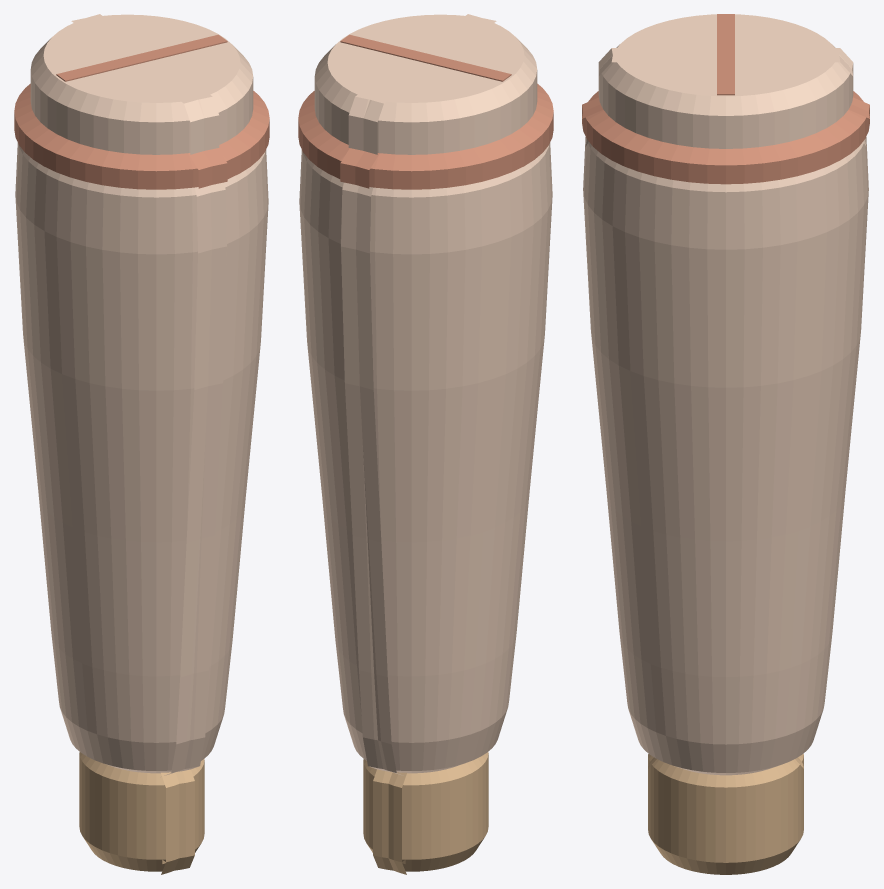
File: tube-cut.glb
3 renders of one model, left to right at view 1: azimuth 30°, elevation 25°; view 2: azimuth 150°, elevation 25°; view 3: azimuth 270°, elevation 25°, orthographic.
Visible parts, largest first — view 1: tube_Cosmetic Squeeze Tube_e3b036_right, tube_Cosmetic Squeeze Tube_e3b036_left, tube_Cosmetic Squeeze Tube_0a36c3_right, tube_Cosmetic Squeeze Tube_0a36c3_left, tube_Cosmetic Squeeze Tube_2d8c01_right, tube_Cosmetic Squeeze Tube_056f02_right, tube_Cosmetic Squeeze Tube_056f02_left, tube_Cosmetic Squeeze Tube_2d8c01_left, tube_Cosmetic Squeeze Tube_0d0d5a_left, tube_Cosmetic Squeeze Tube_0d0d5a_right; view 2: tube_Cosmetic Squeeze Tube_e3b036_right, tube_Cosmetic Squeeze Tube_e3b036_left, tube_Cosmetic Squeeze Tube_0a36c3_right, tube_Cosmetic Squeeze Tube_0a36c3_left, tube_Cosmetic Squeeze Tube_2d8c01_right, tube_Cosmetic Squeeze Tube_056f02_right, tube_Cosmetic Squeeze Tube_056f02_left, tube_Cosmetic Squeeze Tube_2d8c01_left, tube_Cosmetic Squeeze Tube_0d0d5a_left, tube_Cosmetic Squeeze Tube_0d0d5a_right; view 3: tube_Cosmetic Squeeze Tube_e3b036_left, tube_Cosmetic Squeeze Tube_0a36c3_left, tube_Cosmetic Squeeze Tube_2d8c01_left, tube_Cosmetic Squeeze Tube_056f02_left, tube_Cosmetic Squeeze Tube_0a36c3_right, tube_Cosmetic Squeeze Tube_0d0d5a_left, tube_Cosmetic Squeeze Tube_0d0d5a_right.
Boxes of the visible parts, x1,y1,x2,y2 form: tube_Cosmetic Squeeze Tube_e3b036_right: (15,142,226,773); tube_Cosmetic Squeeze Tube_e3b036_left: (164,150,268,775); tube_Cosmetic Squeeze Tube_0a36c3_right: (30,14,219,154); tube_Cosmetic Squeeze Tube_0a36c3_left: (71,14,253,154); tube_Cosmetic Squeeze Tube_2d8c01_right: (79,752,194,871); tube_Cosmetic Squeeze Tube_056f02_right: (14,83,227,189); tube_Cosmetic Squeeze Tube_056f02_left: (188,91,269,188); tube_Cosmetic Squeeze Tube_2d8c01_left: (161,759,204,874); tube_Cosmetic Squeeze Tube_0d0d5a_left: (123,34,227,65); tube_Cosmetic Squeeze Tube_0d0d5a_right: (56,51,160,81); tube_Cosmetic Squeeze Tube_e3b036_right: (341,142,552,773); tube_Cosmetic Squeeze Tube_e3b036_left: (299,150,403,775); tube_Cosmetic Squeeze Tube_0a36c3_right: (348,14,537,154); tube_Cosmetic Squeeze Tube_0a36c3_left: (314,14,496,154); tube_Cosmetic Squeeze Tube_2d8c01_right: (373,752,488,871); tube_Cosmetic Squeeze Tube_056f02_right: (340,83,553,189); tube_Cosmetic Squeeze Tube_056f02_left: (298,91,379,188); tube_Cosmetic Squeeze Tube_2d8c01_left: (363,759,406,874); tube_Cosmetic Squeeze Tube_0d0d5a_left: (340,34,444,65); tube_Cosmetic Squeeze Tube_0d0d5a_right: (408,51,511,81); tube_Cosmetic Squeeze Tube_e3b036_left: (583,137,868,775); tube_Cosmetic Squeeze Tube_0a36c3_left: (598,48,853,148); tube_Cosmetic Squeeze Tube_2d8c01_left: (648,754,803,874); tube_Cosmetic Squeeze Tube_056f02_left: (582,97,869,184); tube_Cosmetic Squeeze Tube_0a36c3_right: (599,14,852,75); tube_Cosmetic Squeeze Tube_0d0d5a_left: (717,47,734,95); tube_Cosmetic Squeeze Tube_0d0d5a_right: (717,14,734,61).
Size of the model in its own units: 0.489 by 1.7 by 0.554.
